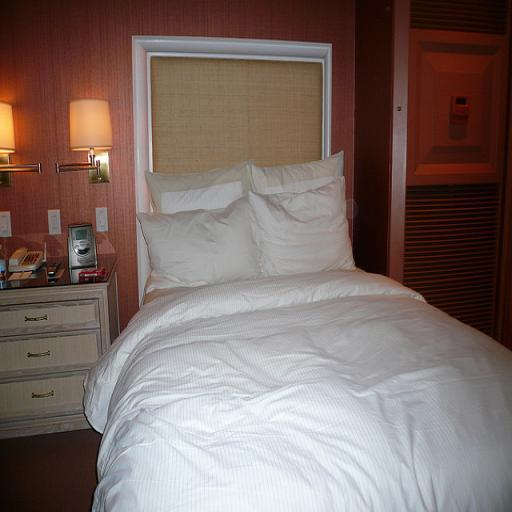bed: (78, 139, 512, 512)
